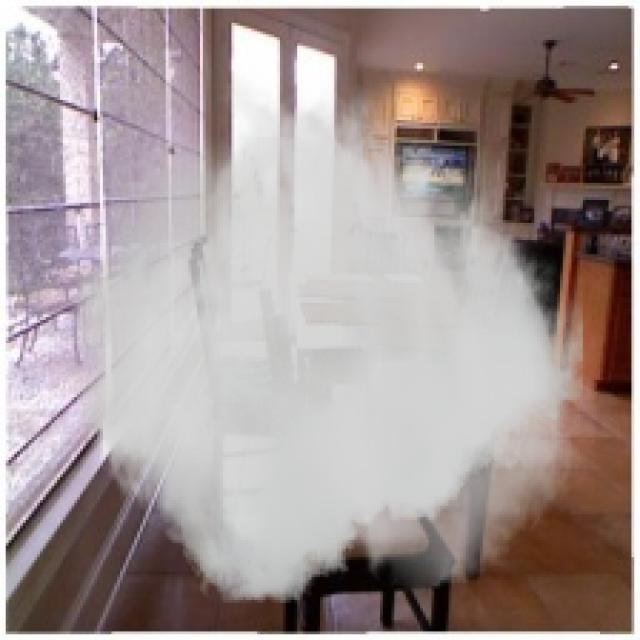Smoke: (66, 71, 583, 603)
